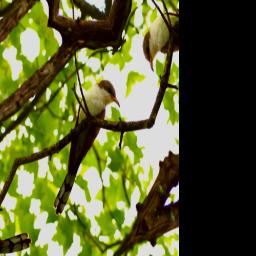Cuckoo: (28, 69, 135, 219)
